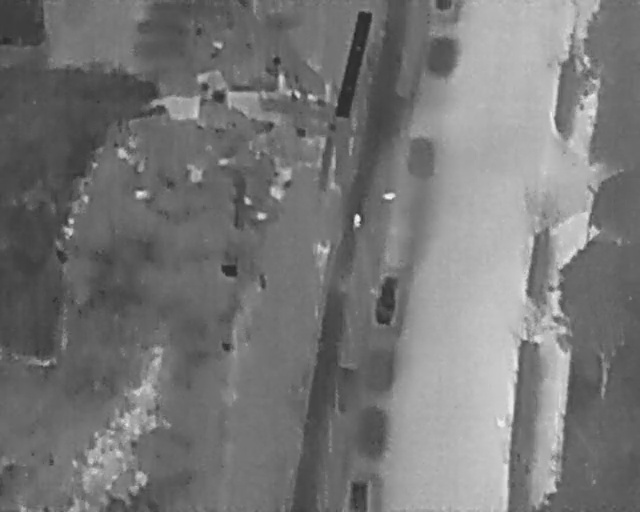Car: (373, 273, 401, 325), (345, 478, 369, 512), (434, 0, 455, 10)
Person: (353, 212, 362, 230)
